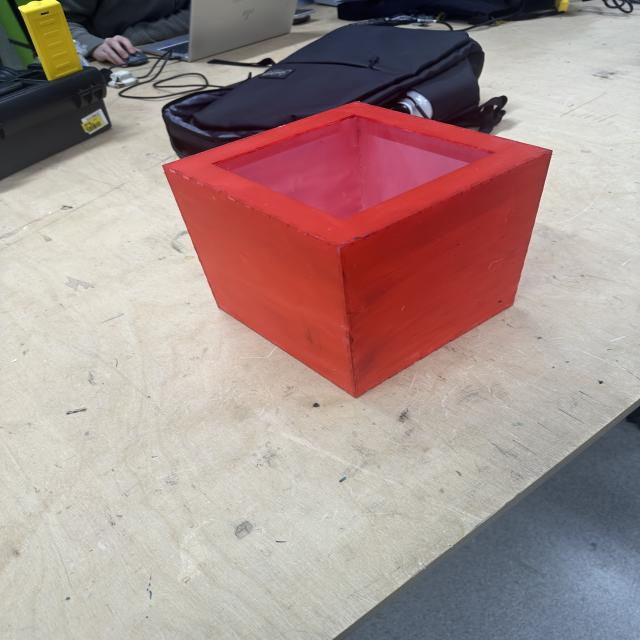red_bin: (162, 100, 552, 399)
